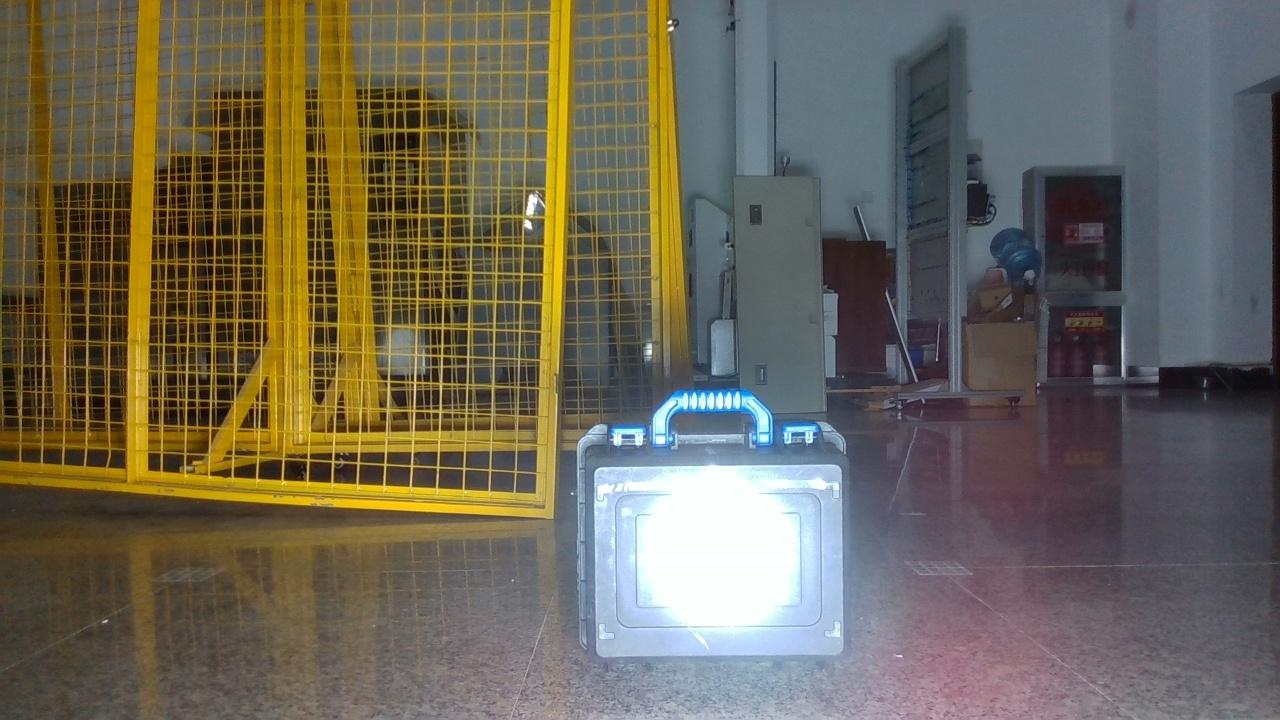toolkit: (575, 390, 845, 658)
